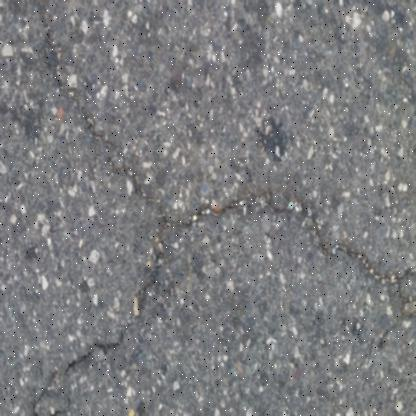Cracks: (31, 181, 415, 415), (34, 0, 173, 228)
